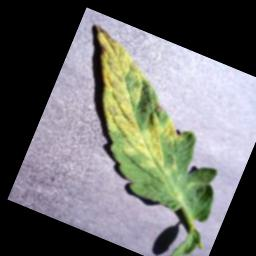Leaf_Mold: (51, 23, 214, 179)
